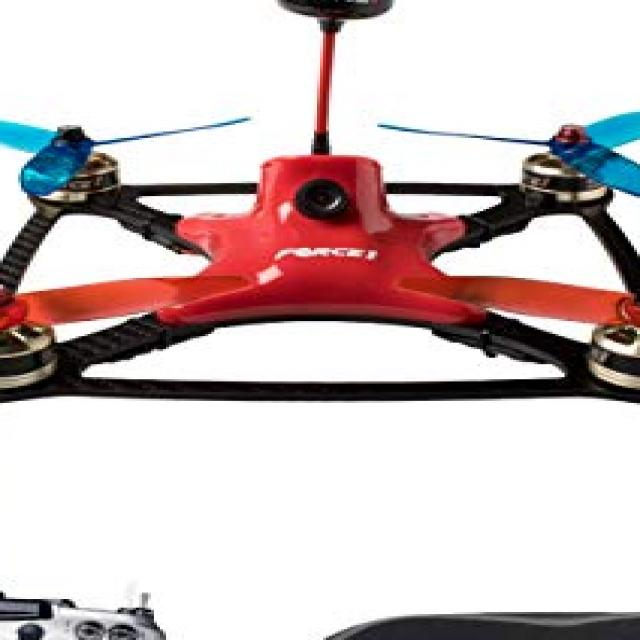drone: (0, 78, 640, 426)
